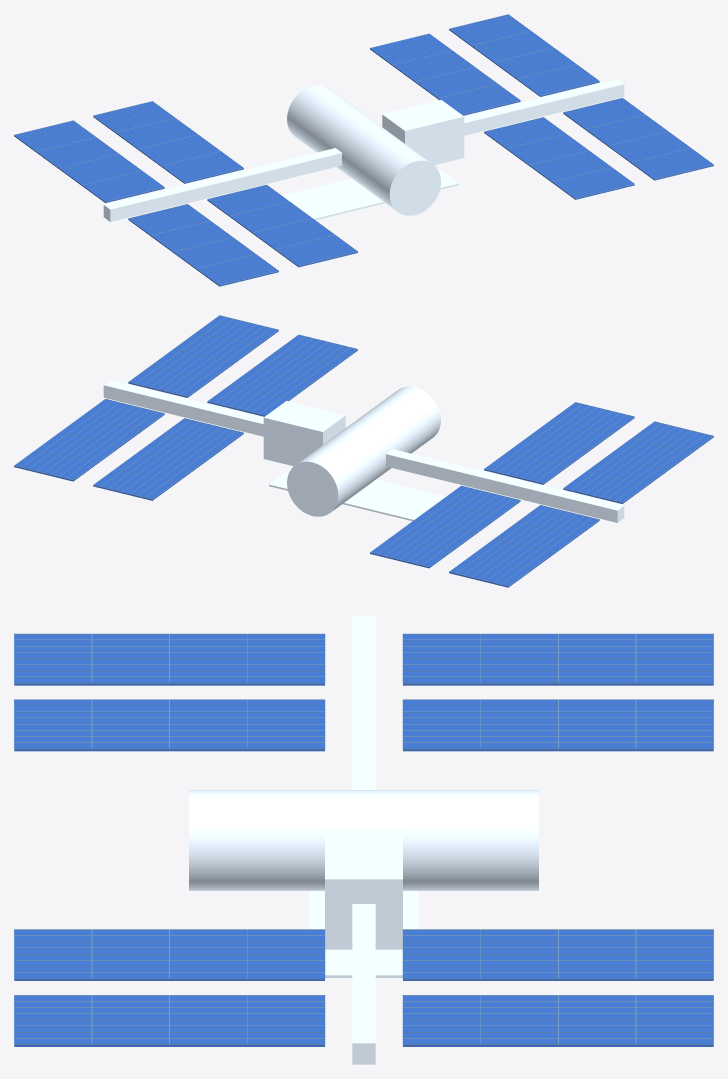
File: station.glb
3 views of the same model, one above another, from view 1: azimuth 30°, elevation 25°; view 2: azimuth 150°, elevation 25°; view 3: azimuth 270°, elevation 25° (orthographic). The views are drawn at different scales.
Visible parts, largest first — view 1: Solar array (×8), Pressurized module (×3), Station truss, Docked module, Radiator; view 2: Solar array (×8), Pressurized module (×3), Station truss, Docked module, Radiator; view 3: Solar array (×8), Pressurized module (×3), Docked module, Station truss, Radiator.
Part boxes in pixels (left/top/right/bottom): Solar array (×8): left=14, top=14, right=713, bottom=286; Pressurized module (×3): left=287, top=85, right=440, bottom=215; Station truss: left=103, top=79, right=624, bottom=221; Docked module: left=382, top=100, right=464, bottom=165; Radiator: left=282, top=166, right=458, bottom=220; Solar array (×8): left=14, top=315, right=713, bottom=587; Pressurized module (×3): left=287, top=386, right=440, bottom=516; Station truss: left=103, top=380, right=624, bottom=522; Docked module: left=263, top=401, right=345, bottom=466; Radiator: left=269, top=467, right=445, bottom=521; Solar array (×8): left=14, top=634, right=713, bottom=1046; Pressurized module (×3): left=189, top=790, right=538, bottom=890; Docked module: left=325, top=830, right=402, bottom=949; Station truss: left=352, top=616, right=375, bottom=1064; Radiator: left=309, top=891, right=418, bottom=977.
Size of the model in its own units: 26 by 3.34 by 18.01.
